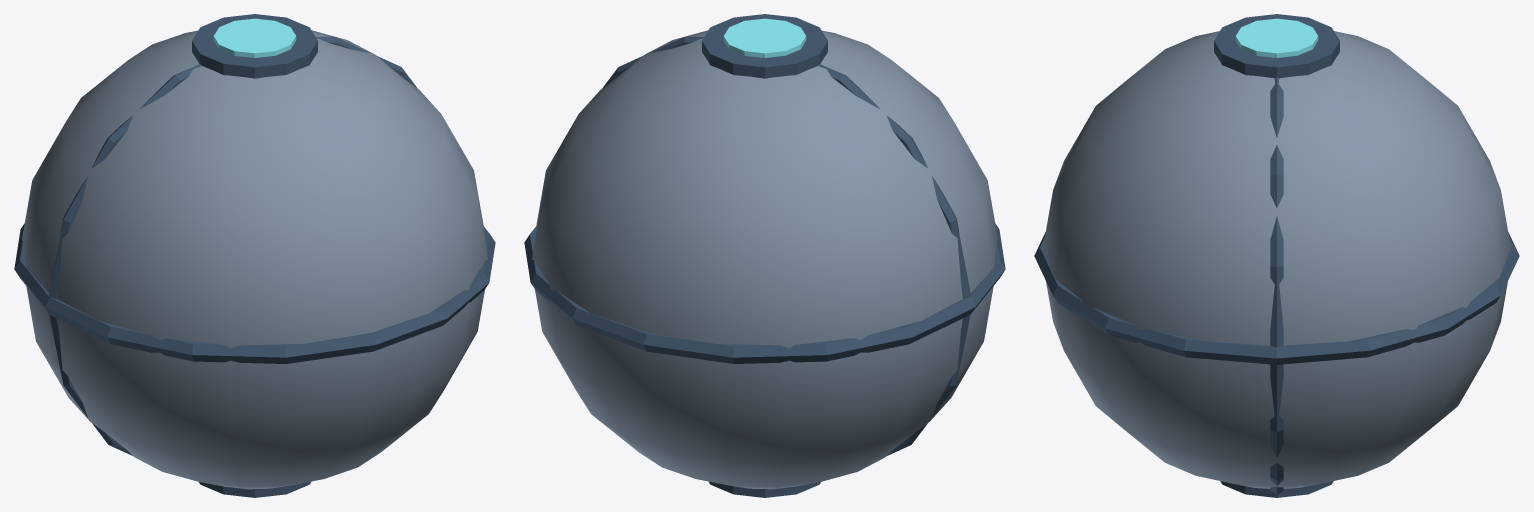
The model's file is Core.fbx.
3 views of the same model, side by side, from view 1: azimuth 30°, elevation 25°; view 2: azimuth 150°, elevation 25°; view 3: azimuth 270°, elevation 25° (orthographic).
Parts seen in each view (by area): view 1: CoreMesh; view 2: CoreMesh; view 3: CoreMesh.
Boxes of the visible parts, bbox=[...] form: CoreMesh: bbox=[14, 14, 495, 497]; CoreMesh: bbox=[524, 14, 1005, 497]; CoreMesh: bbox=[1034, 14, 1519, 497].
Bounding box in the file's own units: 1 × 1 × 1.
